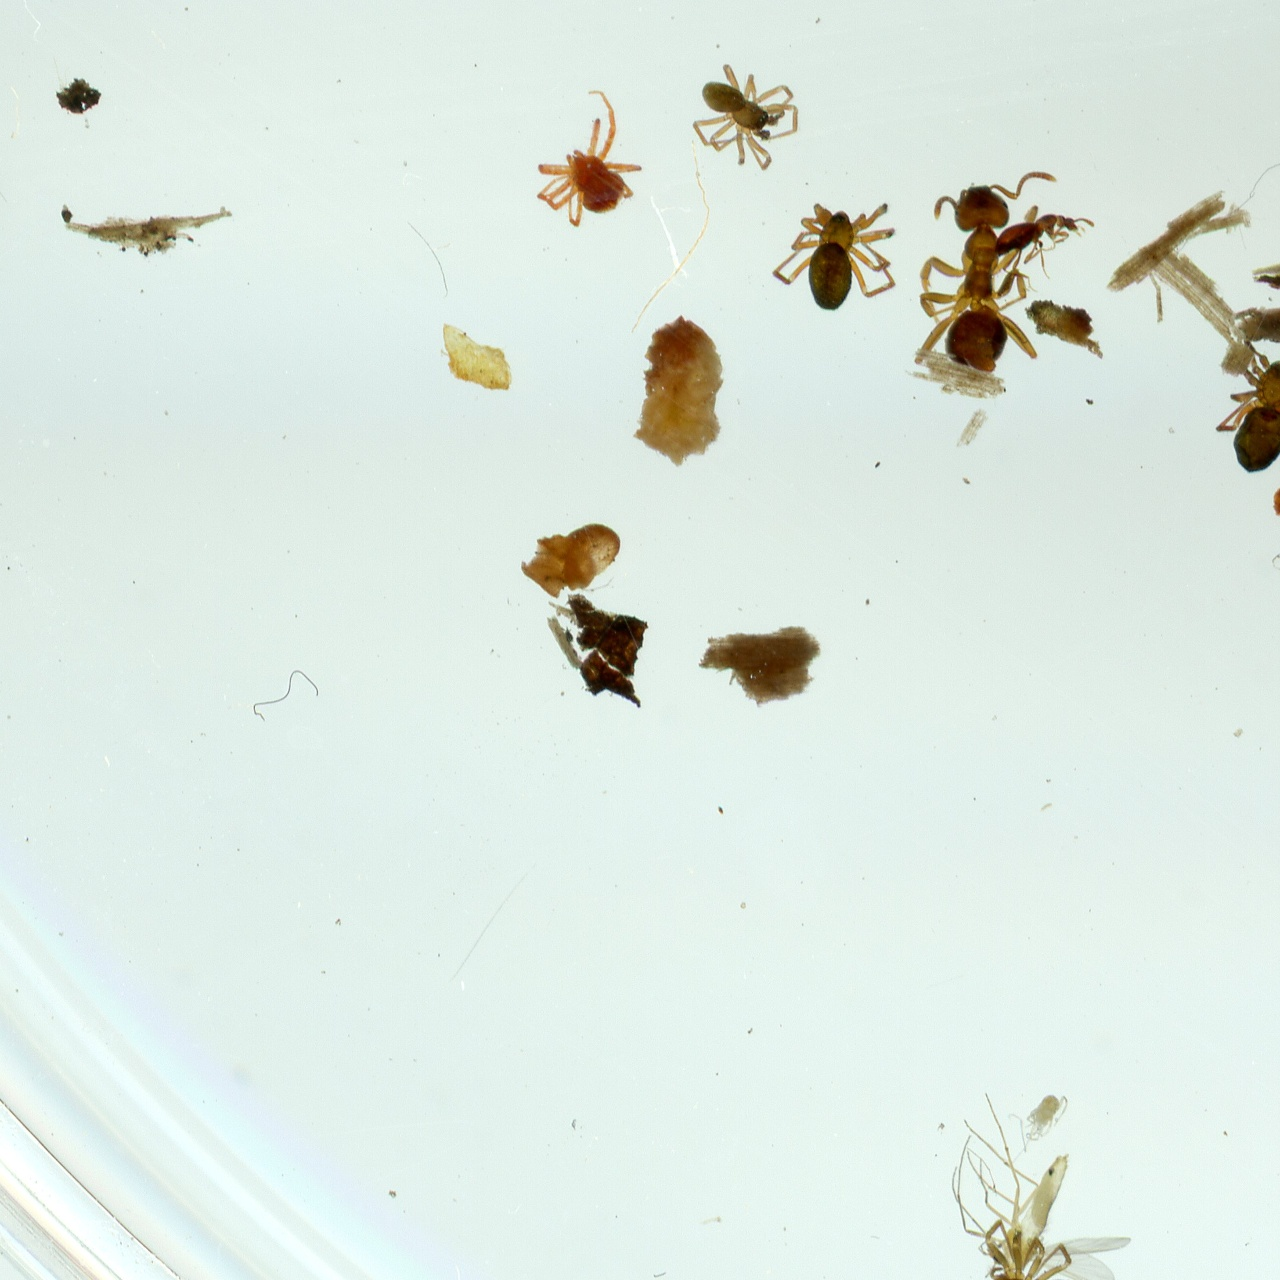arthropod: (901, 1080, 1165, 1280), (910, 166, 1062, 384), (498, 76, 669, 247), (770, 195, 898, 316), (688, 62, 805, 173), (1201, 326, 1280, 489), (987, 200, 1107, 294), (945, 1211, 1107, 1280), (986, 1074, 1082, 1172)
